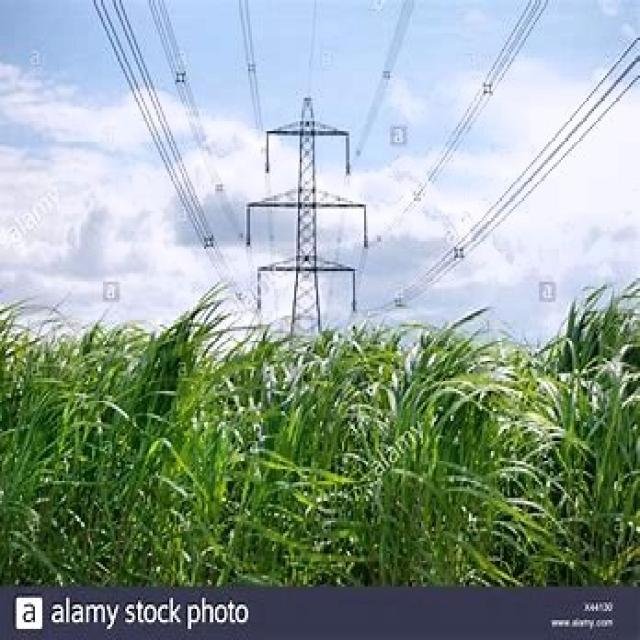utility poles: (248, 90, 359, 590)
